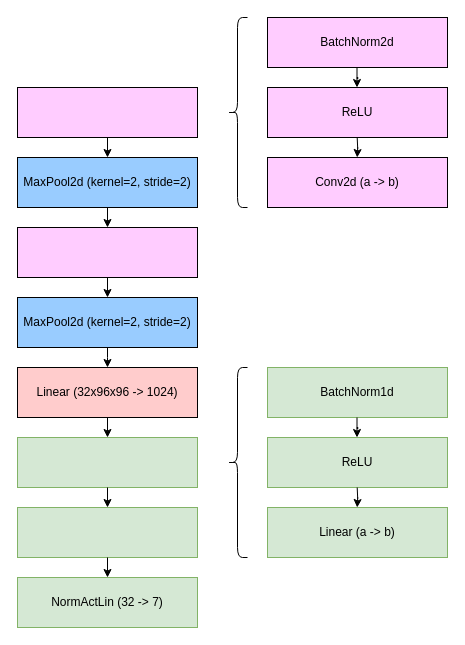
This 465x645 diagram has some shape labels left out. Each missing label, with the centre of its shape:
NormActConv (16 -> 32): the point at 107,252
NormActConv (3 -> 16): the point at 107,112
NormActLin (1024 -> 256): the point at 107,462
NormActLin (256 -> 32): the point at 107,532
